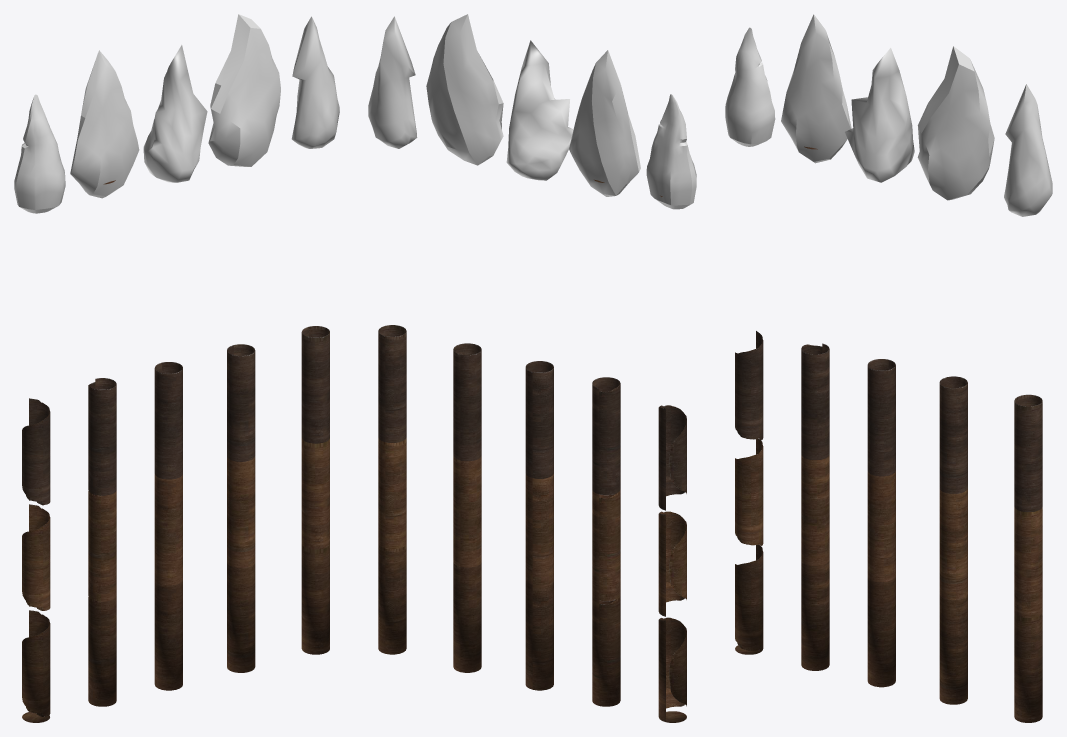
The model's file is Wood_Tex.fbx.
3 renders of one model, left to right at view 1: azimuth 30°, elevation 25°; view 2: azimuth 150°, elevation 25°; view 3: azimuth 330°, elevation 25°, orthographic.
Parts seen in each view (by area): view 1: Bow Wood.005, Bow Wood.003, Bow Wood.004, Bow Wood.002, Bow Wood.001, rock.007_Rock_0.004, rock.007_Rock_0.003, rock.005_Rock_0.001, rock.007_Rock_0.005, defaultMaterial.003; view 2: Bow Wood.005, Bow Wood.003, Bow Wood.004, Bow Wood.002, Bow Wood.001, rock.007_Rock_0.004, rock.007_Rock_0.003, rock.005_Rock_0.001, rock.007_Rock_0.005, defaultMaterial.003; view 3: Bow Wood.003, Bow Wood.002, Bow Wood.004, Bow Wood.005, Bow Wood.001, rock.007_Rock_0.004, rock.007_Rock_0.003, rock.005_Rock_0.001, rock.007_Rock_0.005, defaultMaterial.003.
Boxes of the visible parts, x1=… form: Bow Wood.005: x1=88, y1=180, x2=116, y2=706; Bow Wood.003: x1=227, y1=344, x2=255, y2=672; Bow Wood.004: x1=301, y1=326, x2=329, y2=654; Bow Wood.002: x1=154, y1=362, x2=182, y2=690; Bow Wood.001: x1=22, y1=398, x2=50, y2=722; rock.007_Rock_0.004: x1=208, y1=14, x2=280, y2=166; rock.007_Rock_0.003: x1=70, y1=50, x2=139, y2=198; rock.005_Rock_0.001: x1=143, y1=45, x2=207, y2=182; rock.007_Rock_0.005: x1=291, y1=16, x2=339, y2=148; defaultMaterial.003: x1=14, y1=94, x2=65, y2=213; Bow Wood.005: x1=592, y1=179, x2=620, y2=706; Bow Wood.003: x1=453, y1=343, x2=481, y2=672; Bow Wood.004: x1=378, y1=325, x2=406, y2=654; Bow Wood.002: x1=525, y1=361, x2=553, y2=690; Bow Wood.001: x1=658, y1=195, x2=686, y2=722; rock.007_Rock_0.004: x1=426, y1=14, x2=503, y2=165; rock.007_Rock_0.003: x1=569, y1=50, x2=640, y2=196; rock.005_Rock_0.001: x1=506, y1=40, x2=573, y2=180; rock.007_Rock_0.005: x1=368, y1=16, x2=417, y2=148; defaultMaterial.003: x1=646, y1=94, x2=696, y2=209; Bow Wood.003: x1=939, y1=376, x2=967, y2=704; Bow Wood.002: x1=867, y1=359, x2=895, y2=687; Bow Wood.004: x1=1014, y1=394, x2=1042, y2=722; Bow Wood.005: x1=801, y1=146, x2=829, y2=670; Bow Wood.001: x1=735, y1=331, x2=763, y2=654; rock.007_Rock_0.004: x1=917, y1=46, x2=994, y2=200; rock.007_Rock_0.003: x1=781, y1=14, x2=851, y2=163; rock.005_Rock_0.001: x1=845, y1=48, x2=914, y2=182; rock.007_Rock_0.005: x1=1004, y1=84, x2=1052, y2=216; defaultMaterial.003: x1=725, y1=27, x2=775, y2=146.
Size of the model in its own units: 0.5123 by 0.9817 by 0.0882.
